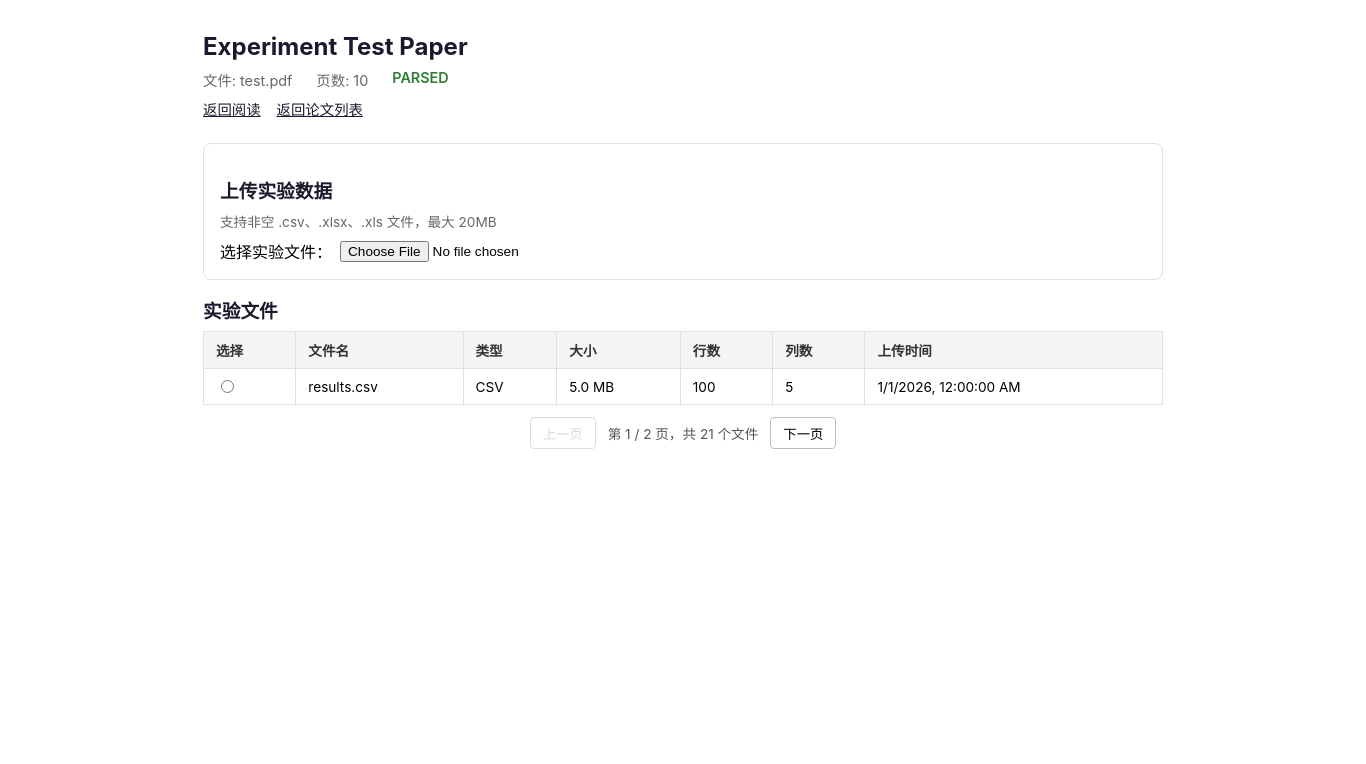
it: ExperimentDataView › paginates the experiment file list and clears selection
Step 1. Click the row with class "file-row" → (683, 386), box x1=204 y1=368 x2=1162 y2=404
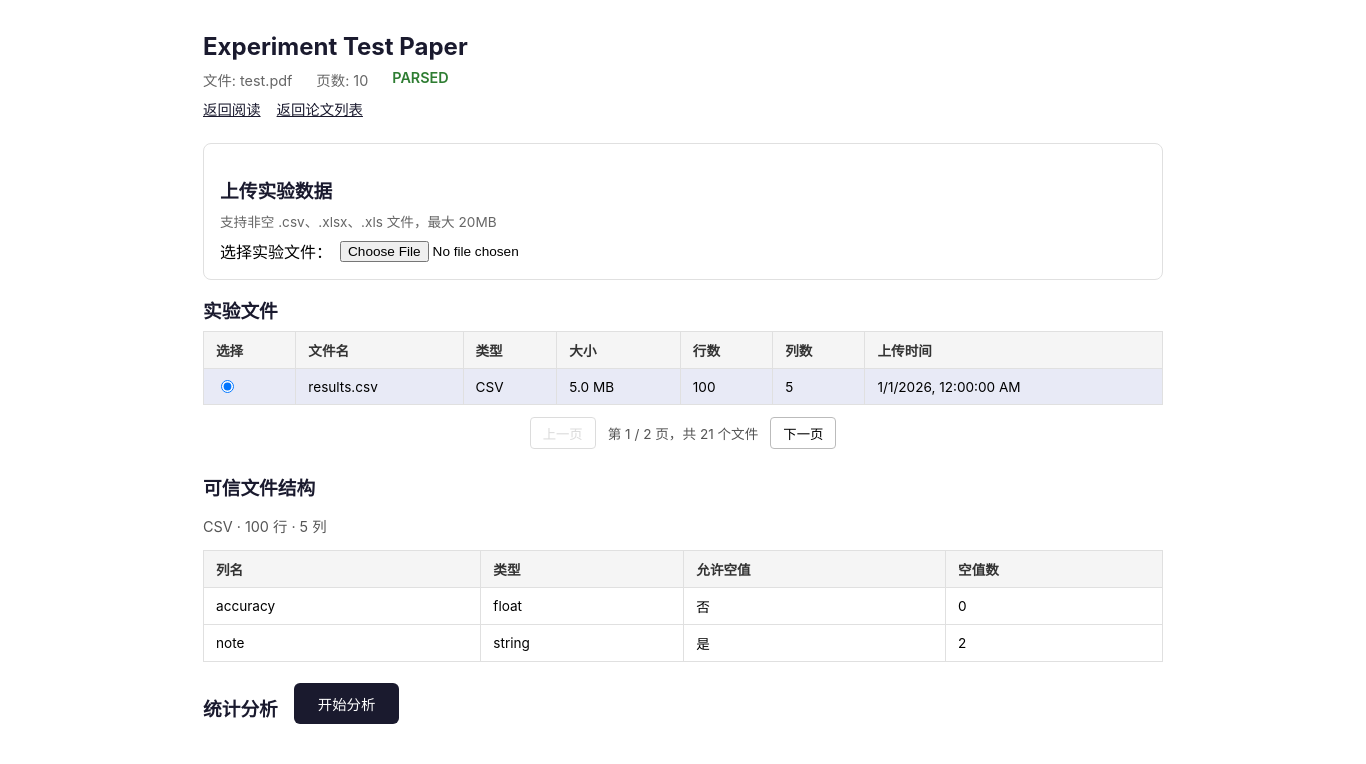
Step 2. Click the button "下一页" → (803, 433), box x1=770 y1=417 x2=836 y2=449
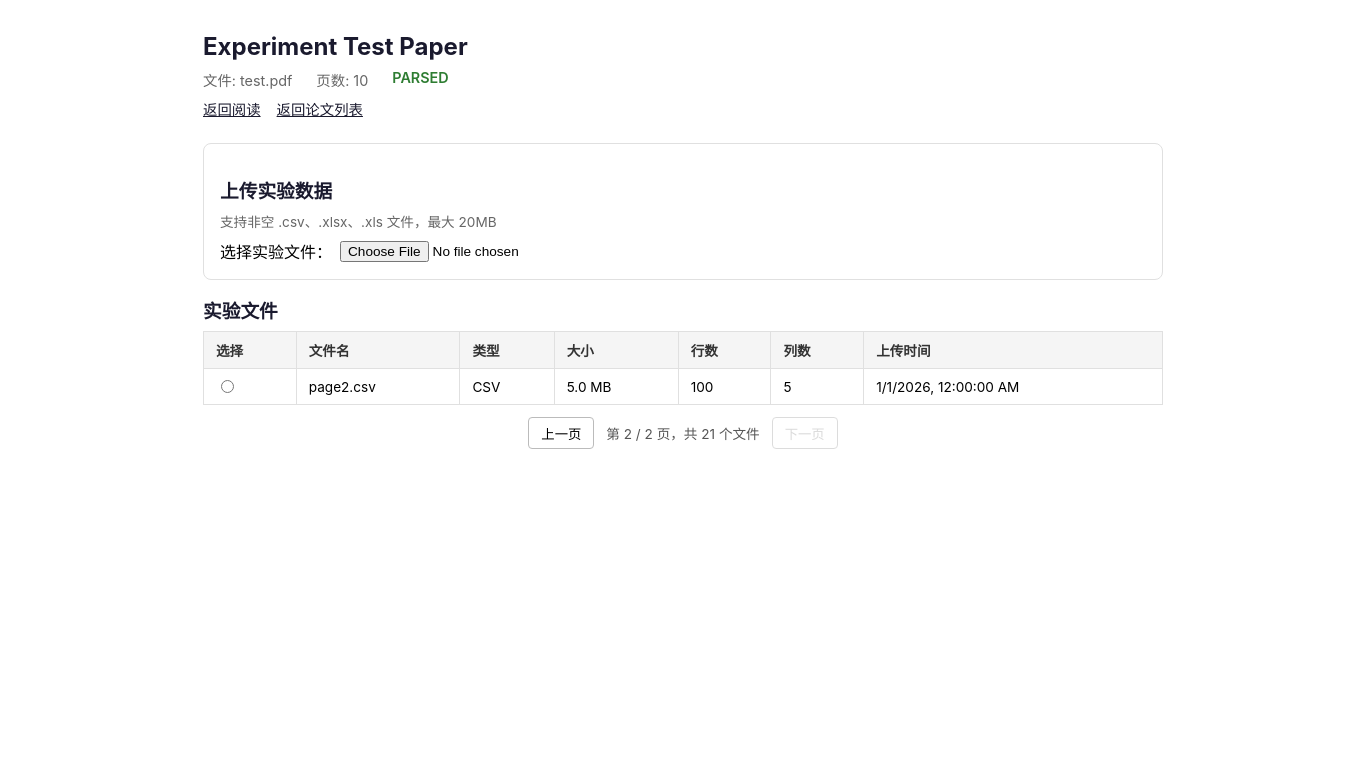
Expected: the text "page2.csv" is shown, x1=296 y1=368 x2=460 y2=404
